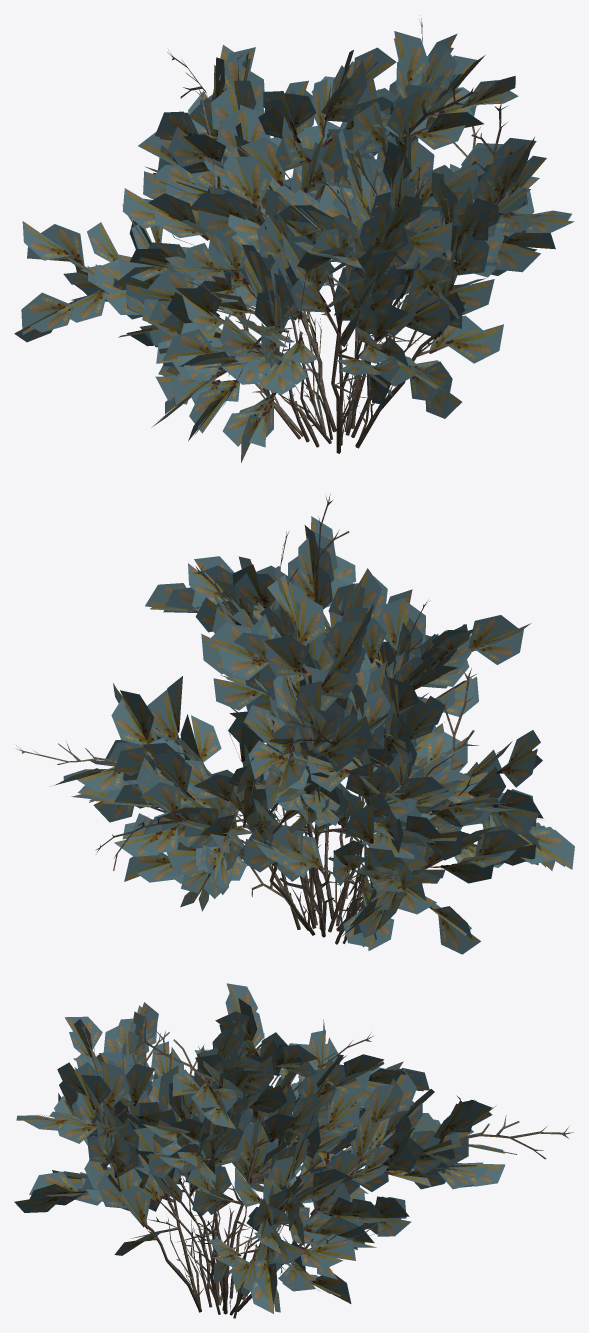
File: struik_laag.gltf
3 renders of one model, top to bottom at view 1: azimuth 30°, elevation 25°; view 2: azimuth 150°, elevation 25°; view 3: azimuth 270°, elevation 25°, orthographic. The views are drawn at different scales.
Visible parts, largest first — view 1: wild_rooibos_bush_a; view 2: wild_rooibos_bush_a; view 3: wild_rooibos_bush_a.
Part boxes in pixels (x1=…): wild_rooibos_bush_a: x1=14, y1=15, x2=574, y2=462; wild_rooibos_bush_a: x1=16, y1=493, x2=574, y2=954; wild_rooibos_bush_a: x1=14, y1=983, x2=573, y2=1318.
Bounding box in the file's own units: 0.7081 × 0.5433 × 0.8501.
Materials: 2 (2 with a texture image).
